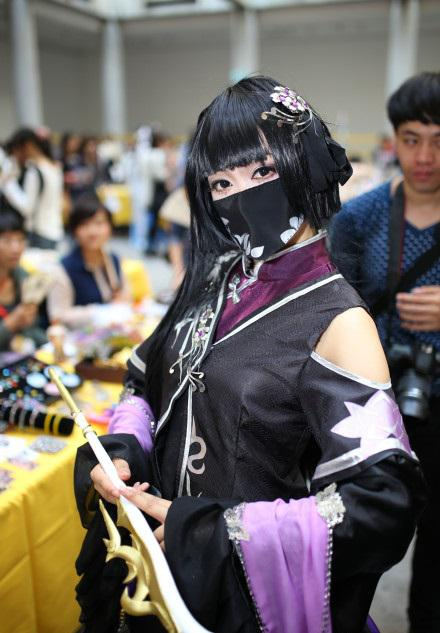NONE: (395, 120, 440, 187), (76, 209, 110, 251), (1, 231, 26, 269)
OK: (211, 153, 301, 249)
